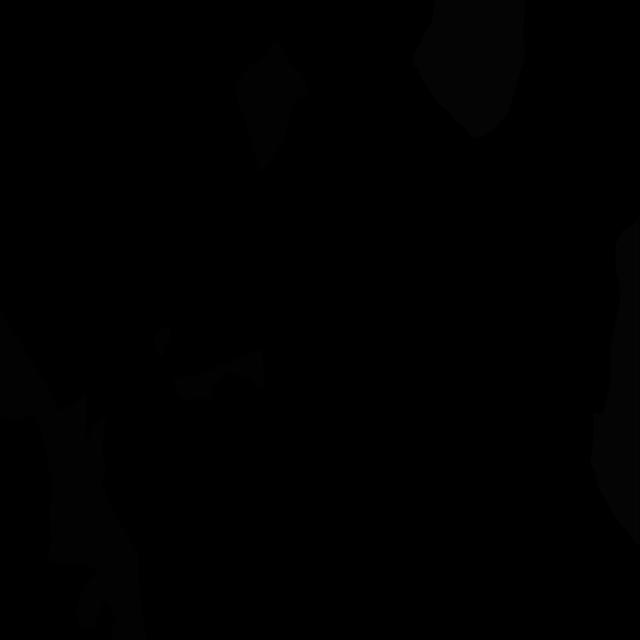cardboard: (34, 394, 148, 640), (236, 40, 308, 173), (0, 306, 59, 421), (172, 350, 265, 400), (153, 327, 171, 358)
soft_plastic: (590, 215, 640, 547), (413, 0, 525, 139)
